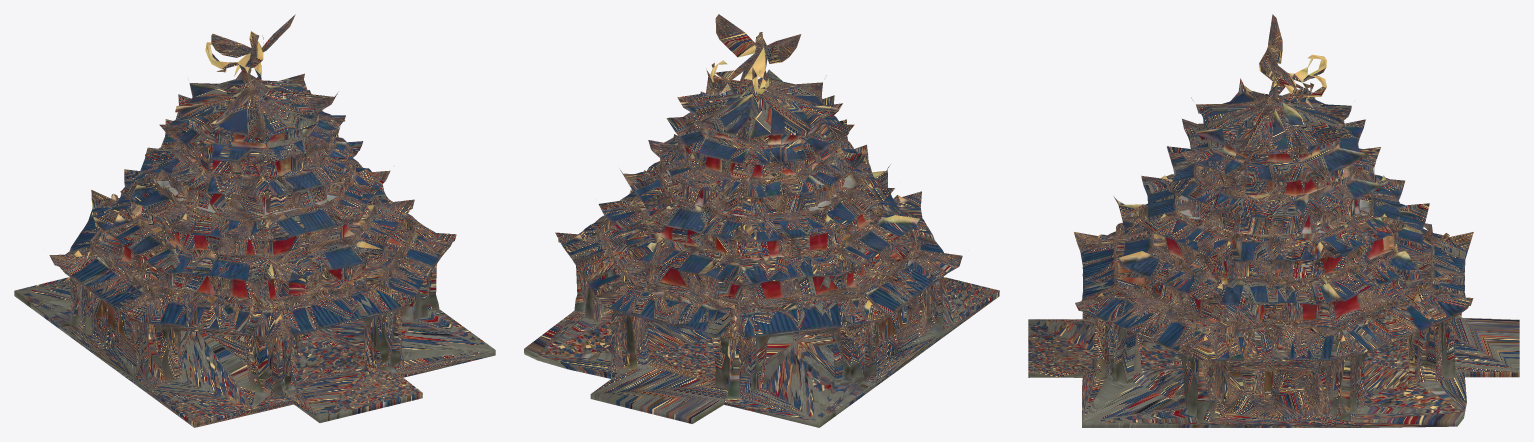
File: bq_pagoda.lod.glb
3 renders of one model, left to right at view 1: azimuth 30°, elevation 25°; view 2: azimuth 150°, elevation 25°; view 3: azimuth 270°, elevation 25°, orthographic. The views are drawn at different scales.
Bounding box in the file's own units: 1.57 × 1.35 × 1.9.
Materials: 1 (1 with a texture image).
